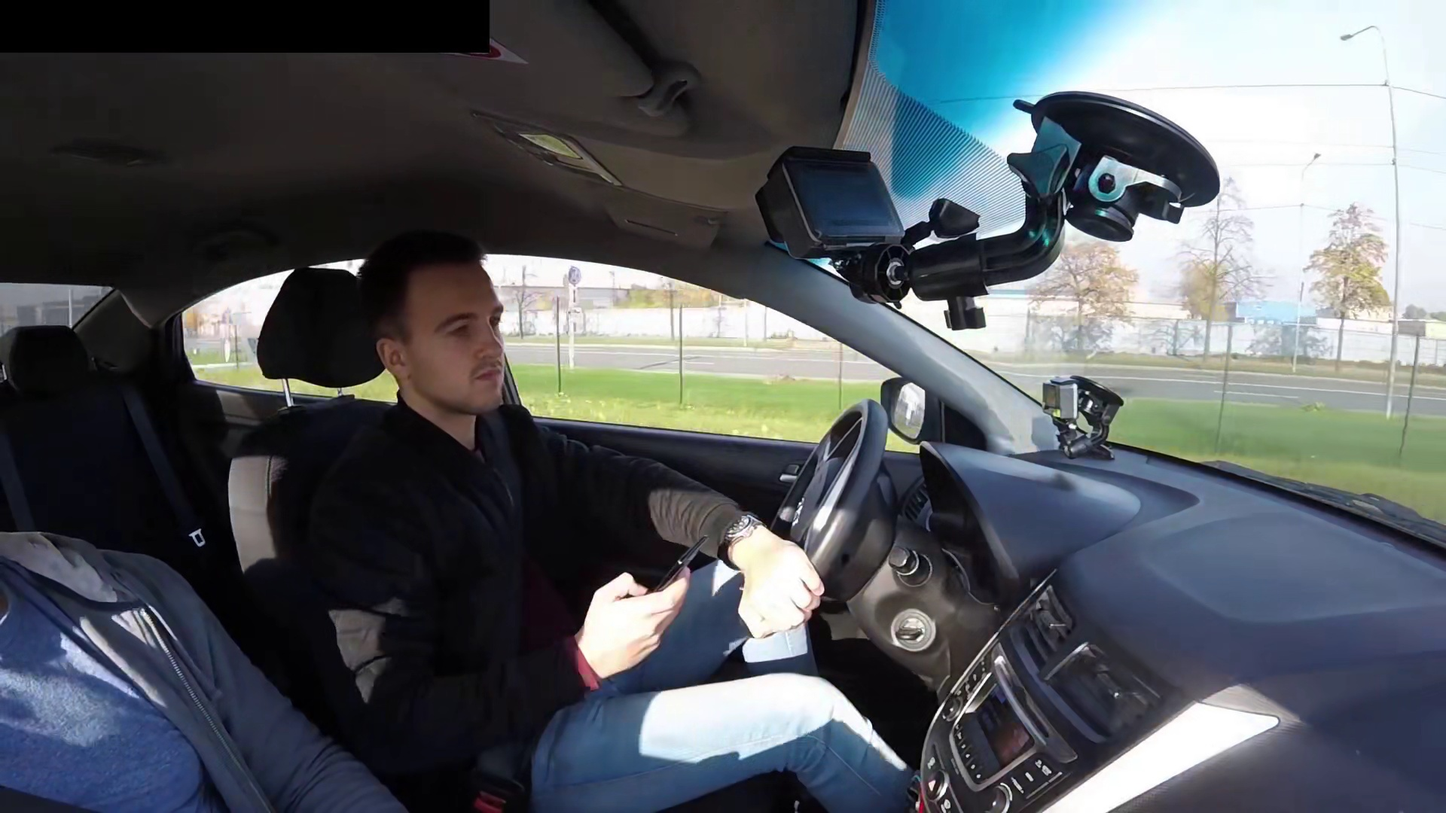bus: (0, 167, 1145, 758), (4, 186, 905, 777)
